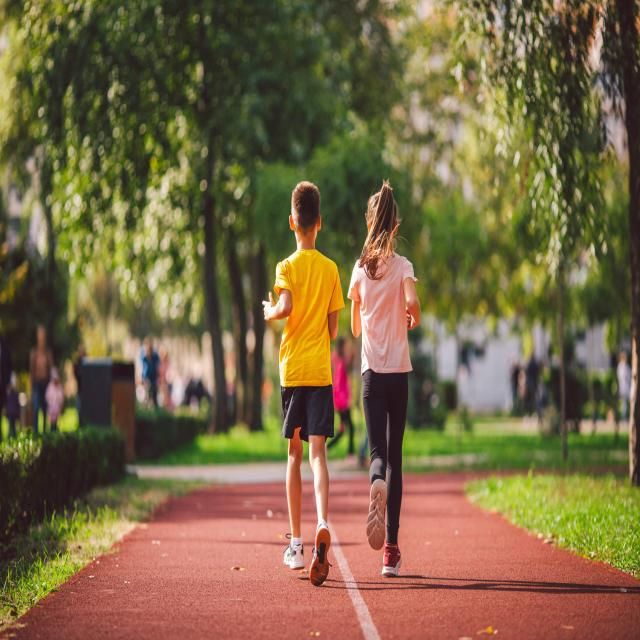Person: (262, 181, 345, 586), (348, 180, 419, 576)
